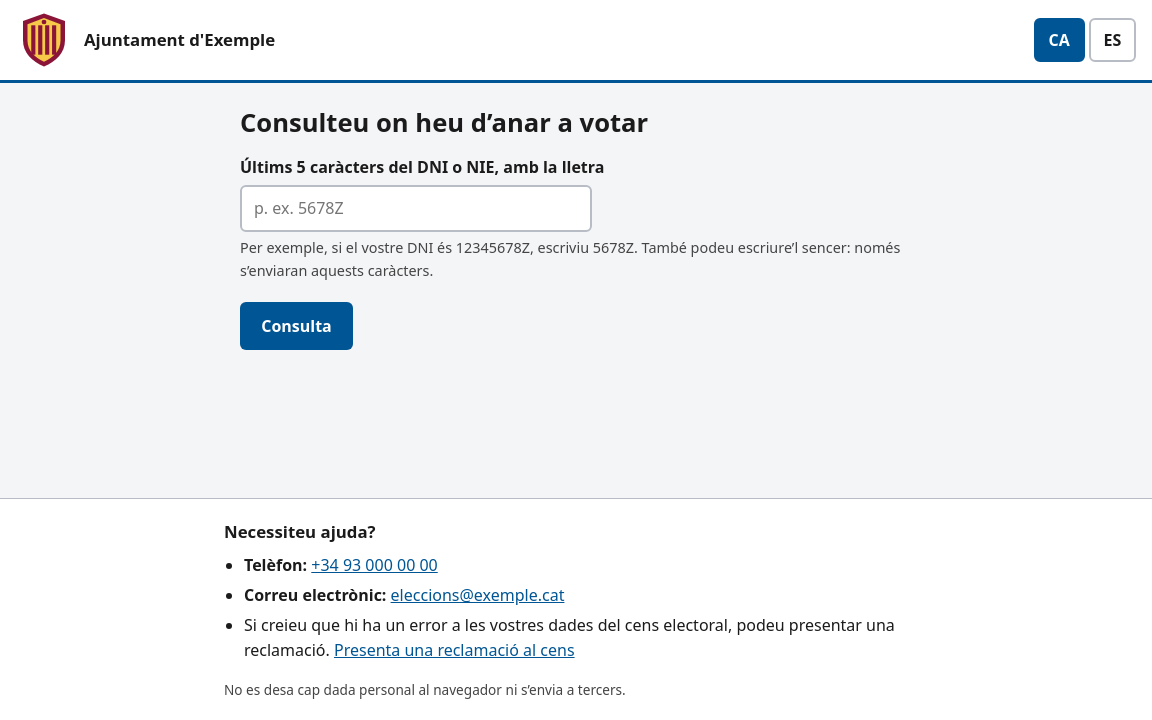
Scenario: flux complet de consulta › per al segon cognom el botó és «No en tinc / no ho sé»
The width and height of the screenshot is (1152, 720).
In the field labelled "Últims 5 caràcters del DNI o NIE, amb la lletra": (416,209) [240,185,592,232], type "12345678Z"
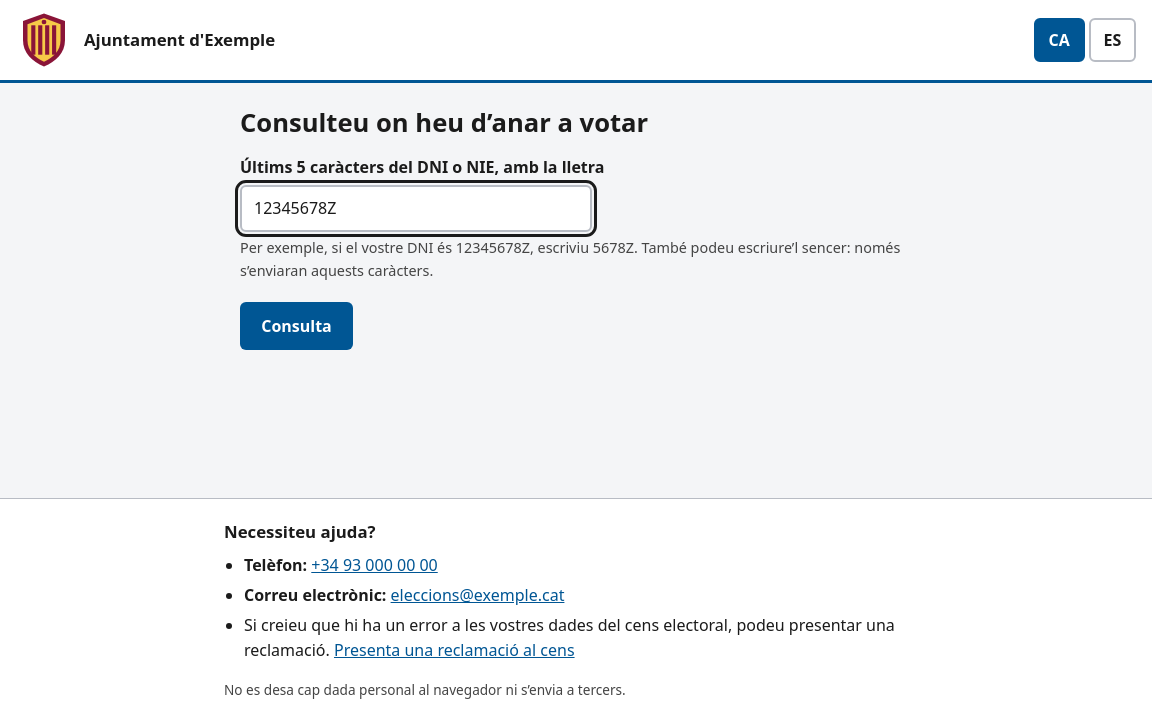
Click the button "Consulta": (296,326) [240,302,353,350]
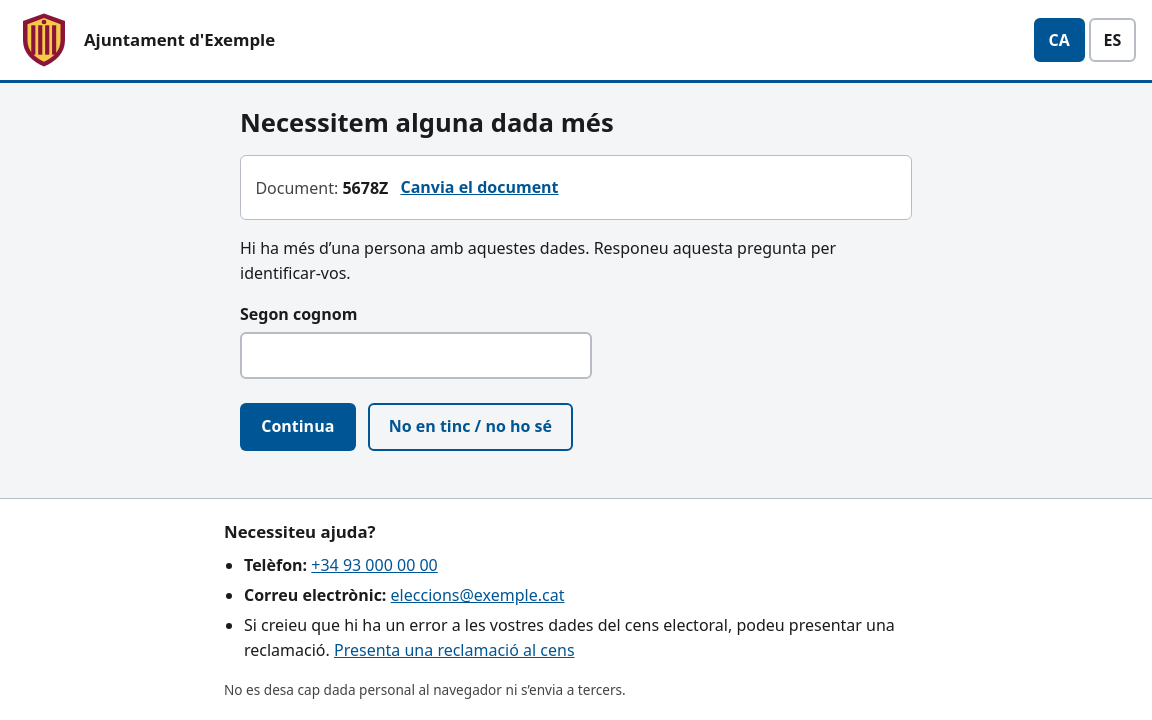
Click the button "No en tinc / no ho sé": (470,426) [368,402,573,450]
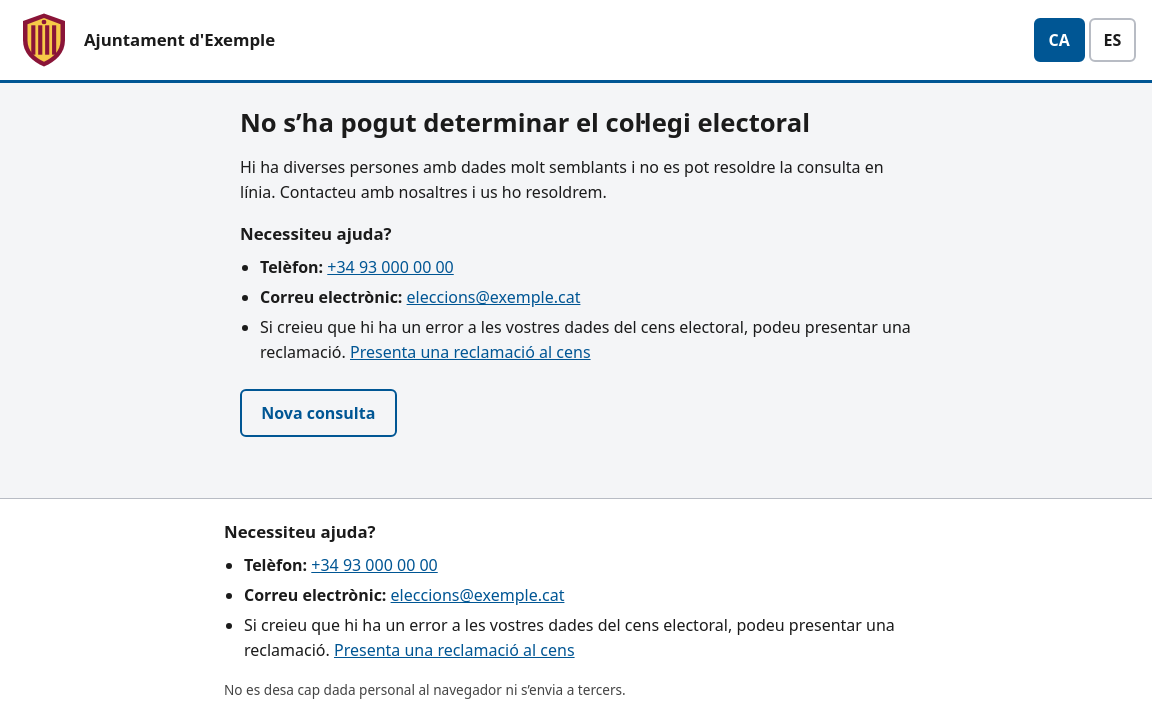
Expected: the heading "No s’ha pogut determinar el col·legi electoral" is shown, [240,105,810,140]
Expected: the label labelled "Segon cognom" is gone
